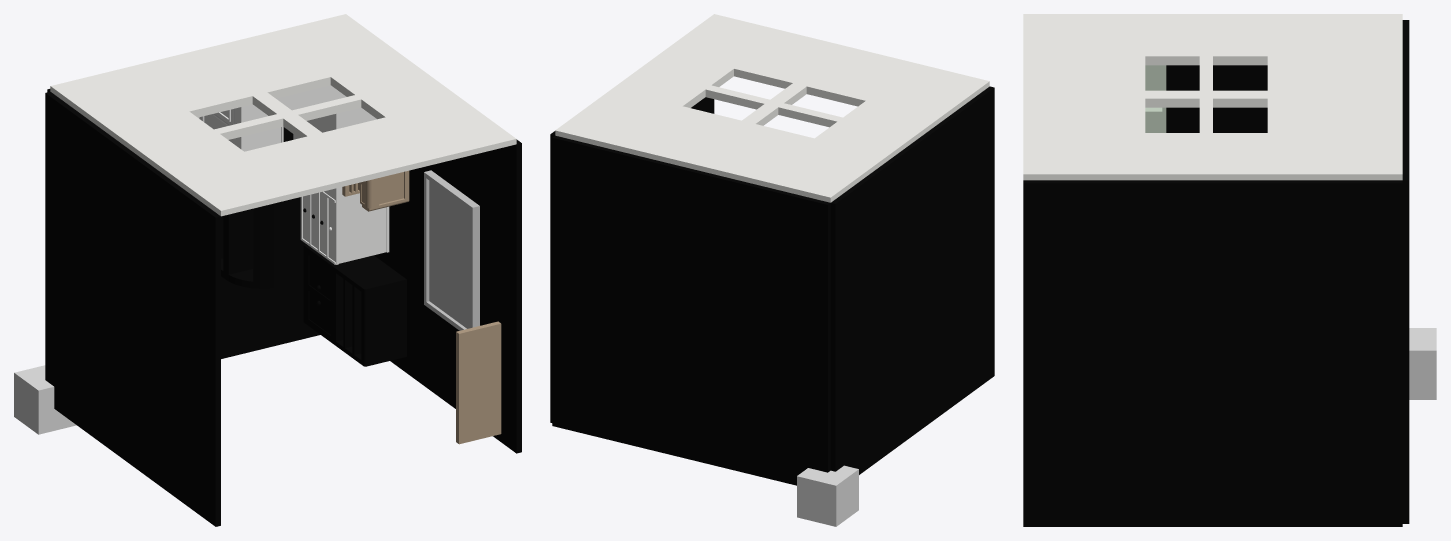
Rendered from assembly.glb.
The picture shows the model from 3 angles, left to right: view 1: azimuth 30°, elevation 25°; view 2: azimuth 150°, elevation 25°; view 3: azimuth 270°, elevation 25°; orthographic projection. The views are drawn at different scales.
Parts seen in each view (by area): view 1: Mochi Assembly, Cube; view 2: Mochi Assembly, Cube; view 3: Mochi Assembly, Cube.
Part boxes in pixels (x1,y1,x2,y2): Mochi Assembly: (45, 14, 521, 526); Cube: (14, 365, 76, 434); Mochi Assembly: (550, 14, 994, 485); Cube: (797, 465, 858, 526); Mochi Assembly: (1023, 14, 1409, 526); Cube: (1409, 328, 1436, 399).
Size of the model in its own units: 15.25 by 15.25 by 15.25.
